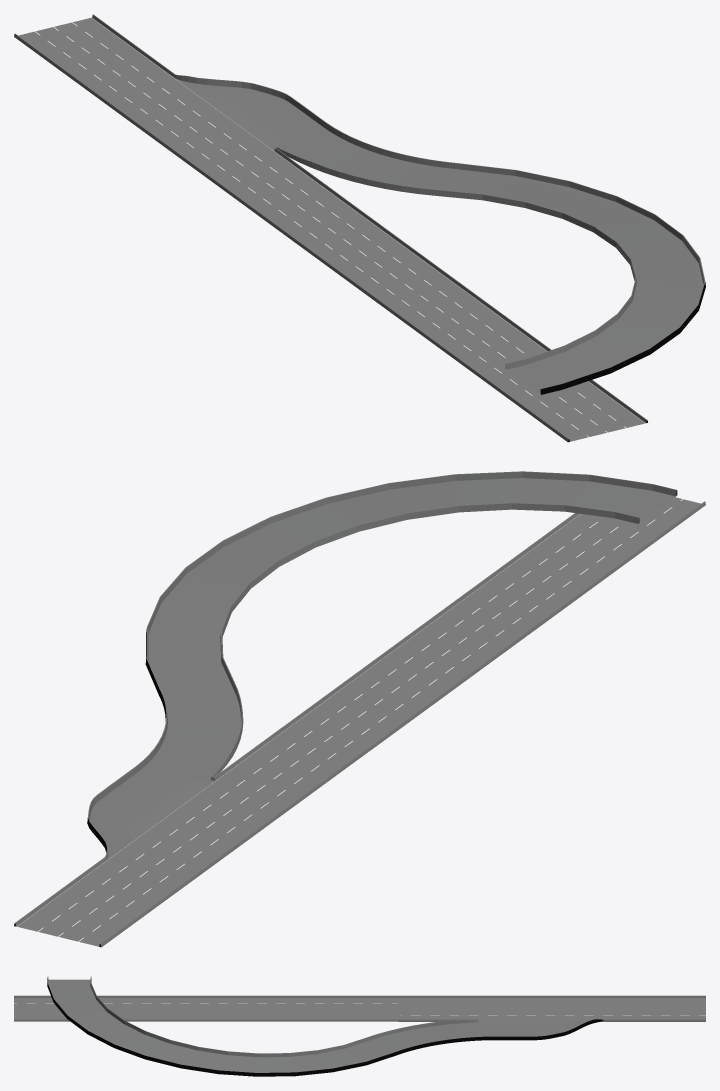
Rendered from Motorway_Ramp.fbx.
3 renders of one model, top to bottom at view 1: azimuth 30°, elevation 25°; view 2: azimuth 150°, elevation 25°; view 3: azimuth 270°, elevation 25°, orthographic. The views are drawn at different scales.
Parts seen in each view (by area): view 1: Plane.006; view 2: Plane.006; view 3: Plane.006.
Part boxes in pixels (x1=…): Plane.006: x1=14, y1=14, x2=705, y2=442; Plane.006: x1=14, y1=471, x2=705, y2=947; Plane.006: x1=14, y1=976, x2=705, y2=1076.
Bounding box in the file's own units: 106 × 12.11 × 360.
